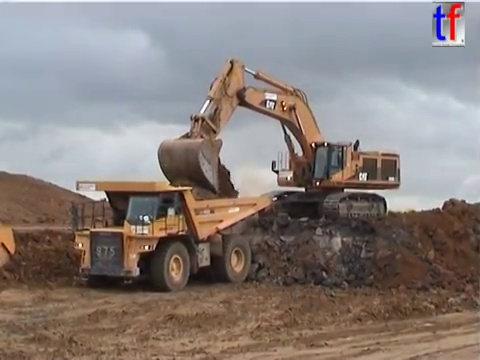excavator: (155, 55, 404, 227)
truck: (68, 178, 272, 293), (1, 224, 18, 271)
